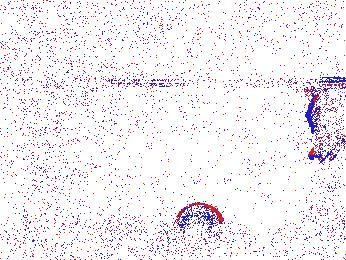flame jellyfish: (305, 88, 346, 165), (23, 213, 88, 260), (174, 203, 230, 245)
